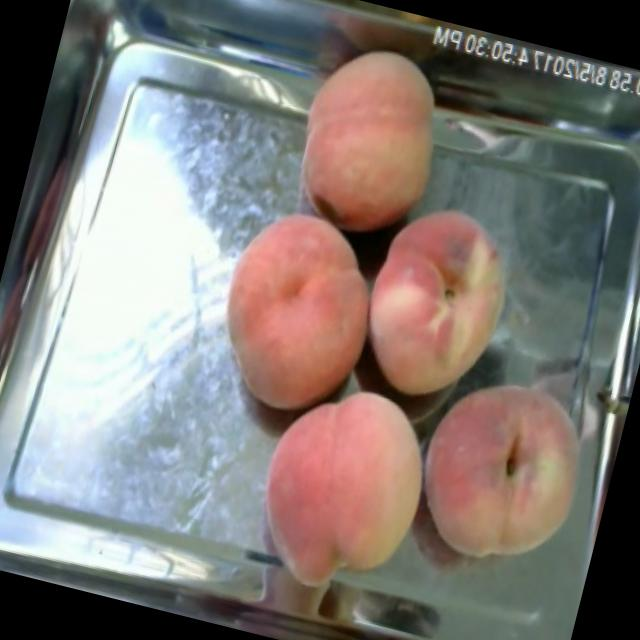Fruit: (231, 362, 456, 615), (391, 354, 614, 590), (191, 190, 392, 436), (272, 22, 468, 252), (344, 186, 532, 420)
